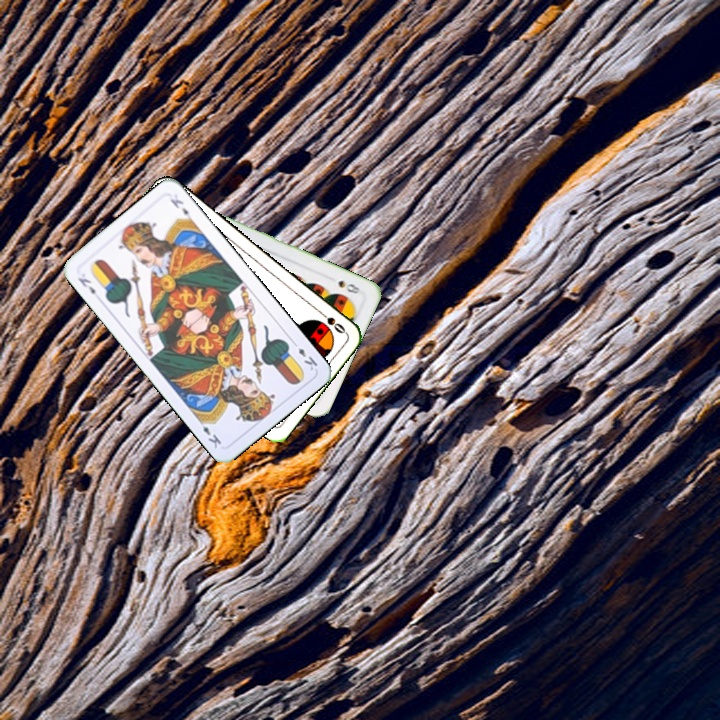EK: (288, 337, 320, 373), (74, 273, 98, 297)
S8: (334, 276, 366, 297)
SO: (314, 306, 348, 336)
